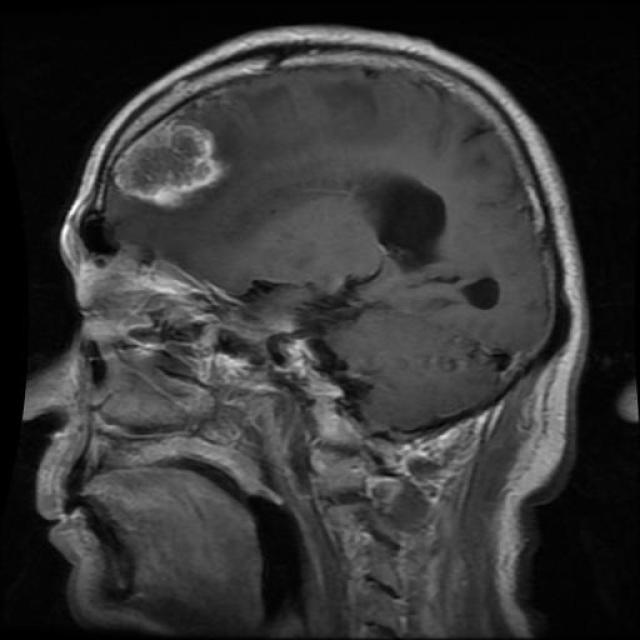Meningioma: (112, 120, 225, 209)
